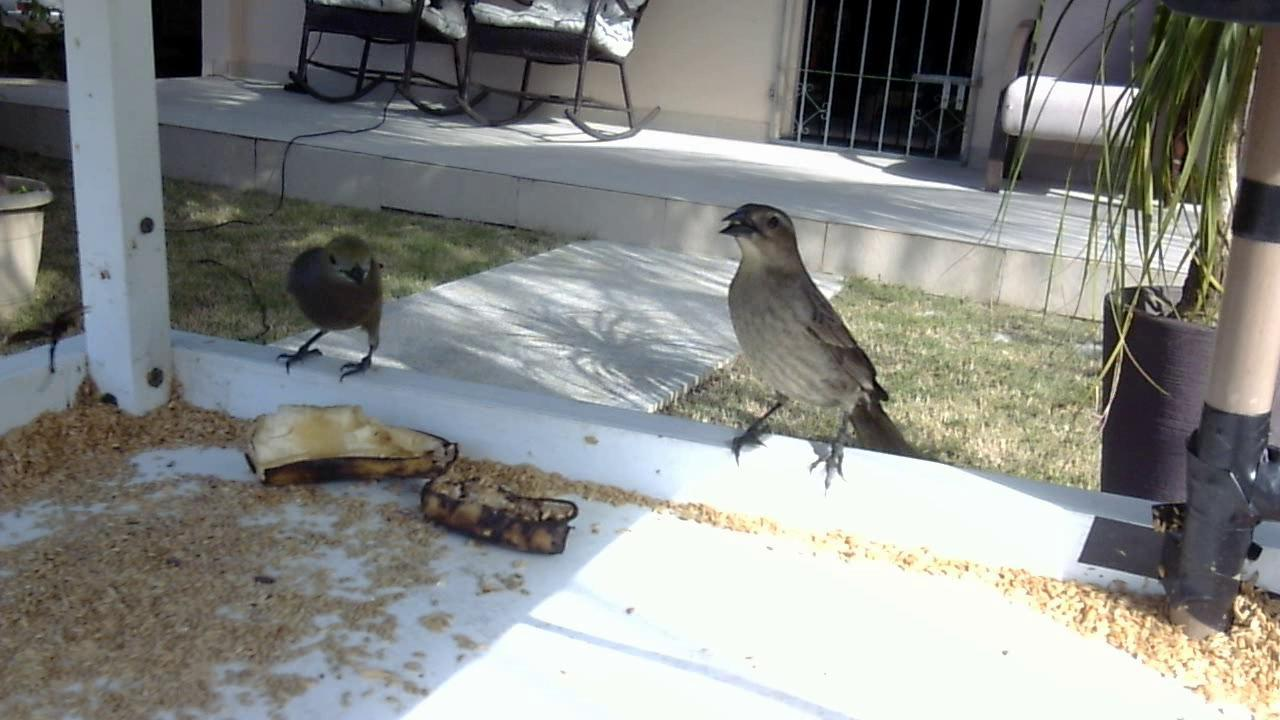chupim: (699, 196, 931, 499)
sanhaco_do_coqueiro: (269, 228, 397, 389)
